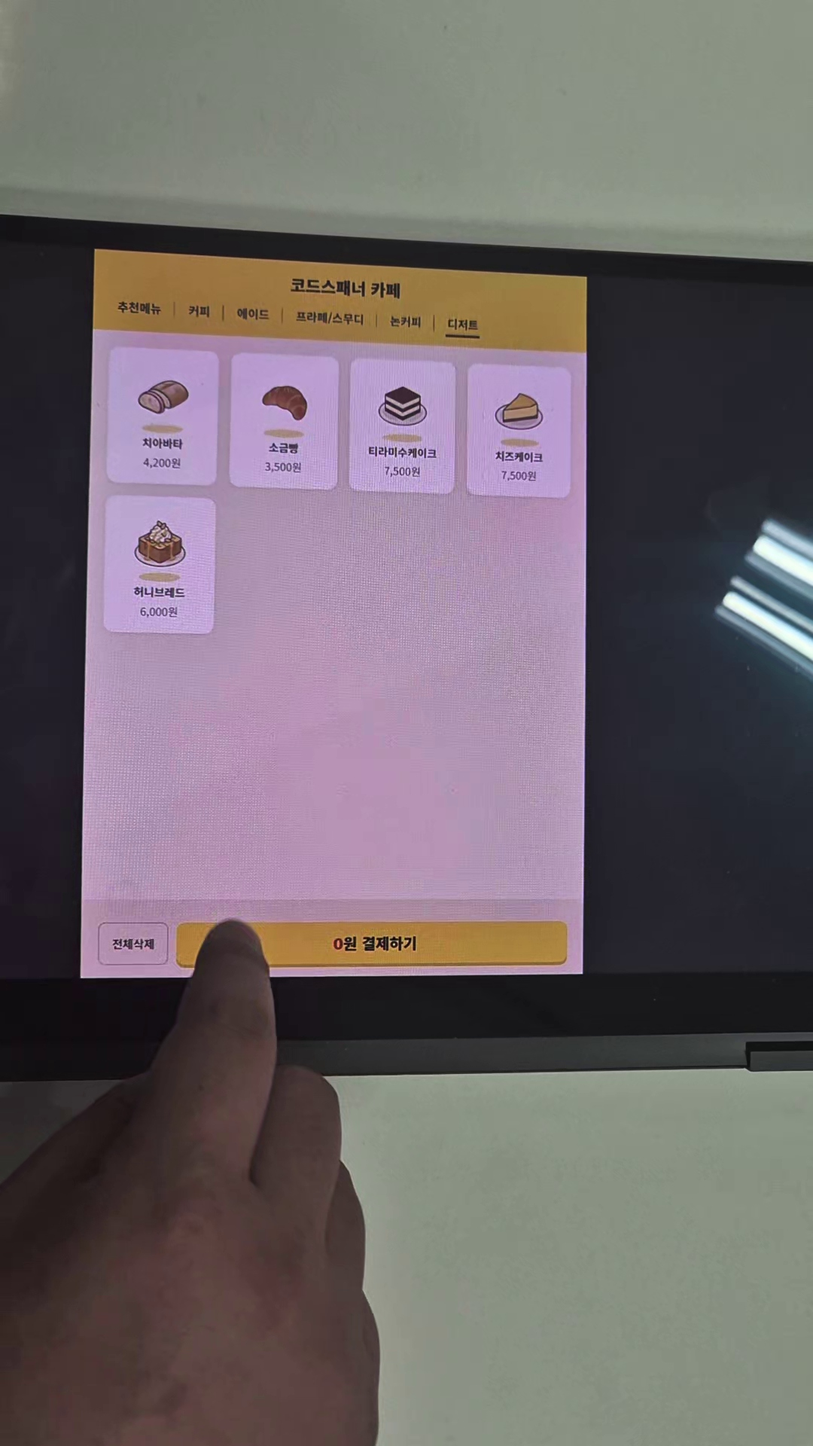action_button: (179, 923, 564, 964), (99, 924, 166, 960)
category_tab: (296, 312, 364, 324), (117, 300, 161, 316), (390, 315, 421, 329), (236, 308, 269, 320), (448, 318, 478, 331), (189, 305, 211, 317)
menu_back: (105, 498, 214, 633), (109, 348, 215, 484), (233, 353, 338, 488), (352, 361, 454, 492), (471, 365, 572, 497)
menu_name: (368, 446, 437, 458), (133, 585, 186, 599), (495, 451, 543, 462), (141, 437, 183, 448), (269, 442, 299, 454)
menu_price: (264, 462, 302, 474), (501, 470, 537, 482), (143, 458, 182, 469), (385, 467, 421, 478), (139, 608, 178, 618)
